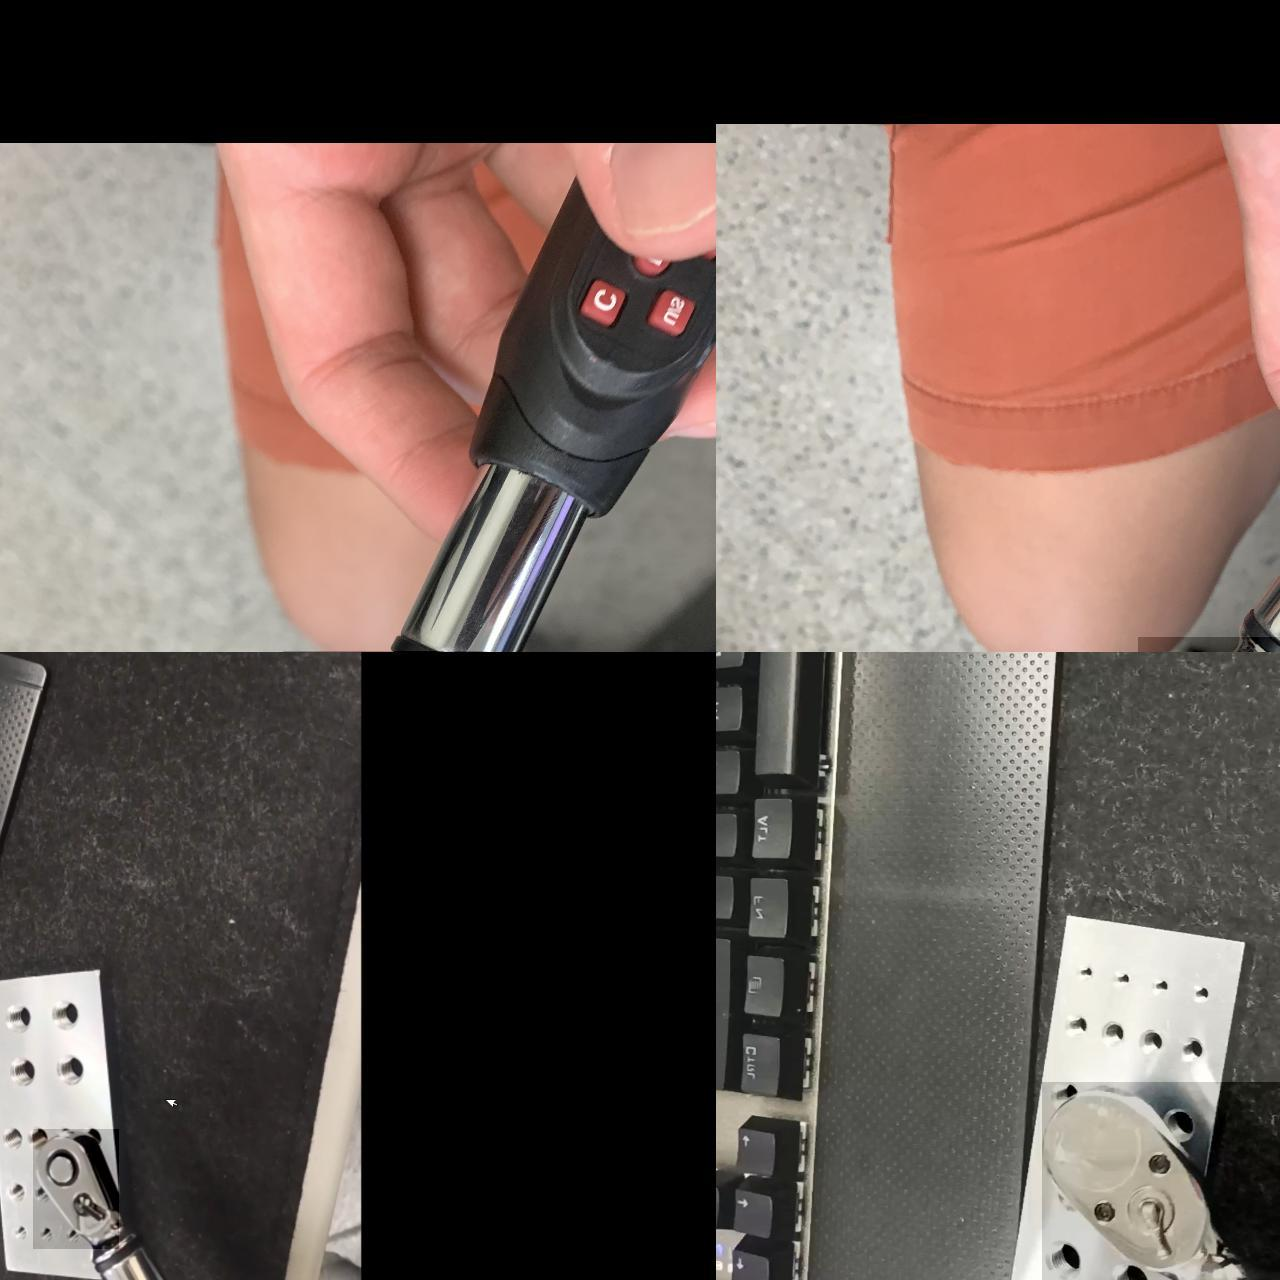Tool: (1042, 1081, 1280, 1280), (33, 1128, 120, 1248)
hole: (1039, 1232, 1080, 1274), (46, 1053, 84, 1094), (1162, 1094, 1197, 1133), (1104, 1250, 1150, 1279), (42, 999, 79, 1034), (1043, 1069, 1077, 1102), (5, 1060, 35, 1094), (1095, 1010, 1124, 1044), (1176, 1024, 1205, 1058), (1137, 1019, 1166, 1051), (0, 1003, 28, 1036), (1063, 1007, 1090, 1034), (1150, 965, 1175, 989), (1107, 959, 1131, 983), (1187, 972, 1211, 996), (1071, 956, 1096, 980), (9, 1182, 28, 1208), (0, 1130, 19, 1155), (25, 1126, 45, 1149), (28, 1184, 50, 1203), (12, 1227, 29, 1251), (35, 1221, 54, 1239), (64, 1230, 80, 1245)
